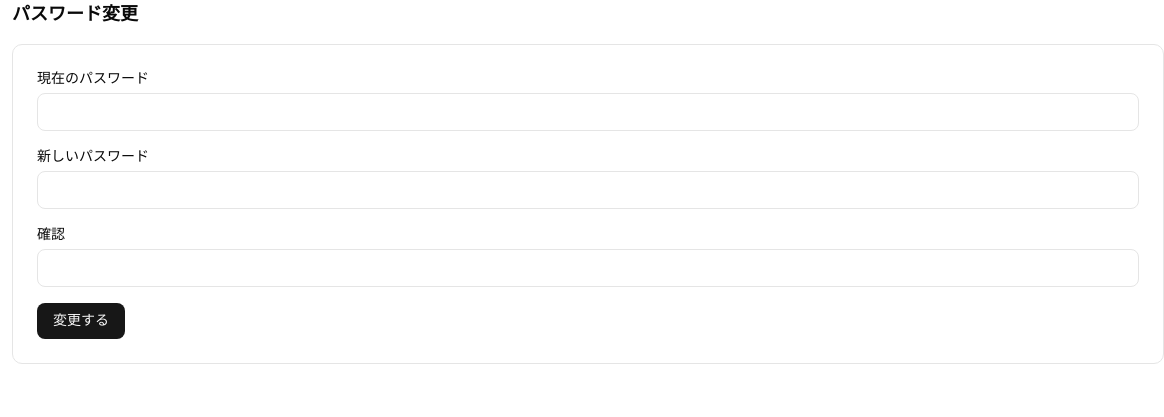
Test: PasswordChangeForm › 確認用パスワードが一致しない場合にエラーを表示する
Type "oldpass" into the password field labelled "現在のパスワード".
click(588, 112); type("oldpass")  # box [37, 93, 1139, 131]
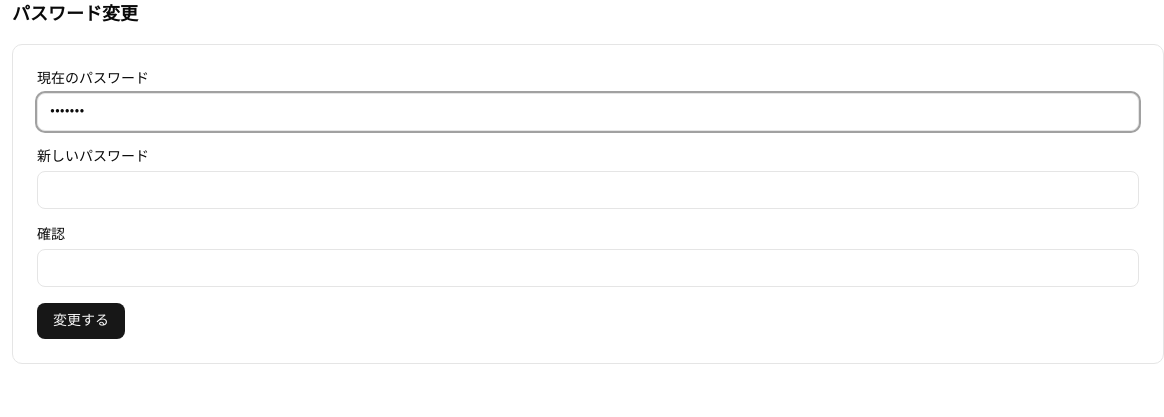
Type "newpassword1" into the password field labelled "新しいパスワード".
click(588, 190); type("newpassword1")  # box [37, 171, 1139, 209]
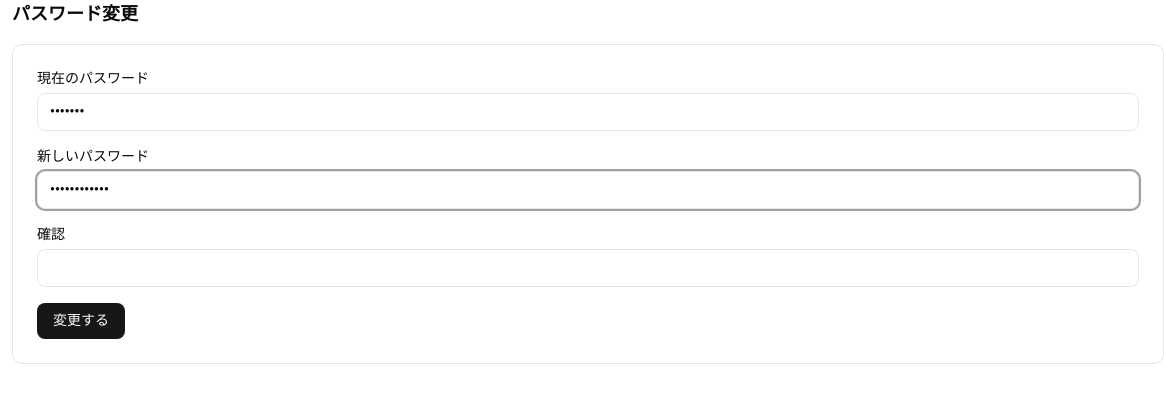
Type "newpassword2" into the password field labelled "確認".
click(588, 268); type("newpassword2")  # box [37, 249, 1139, 287]
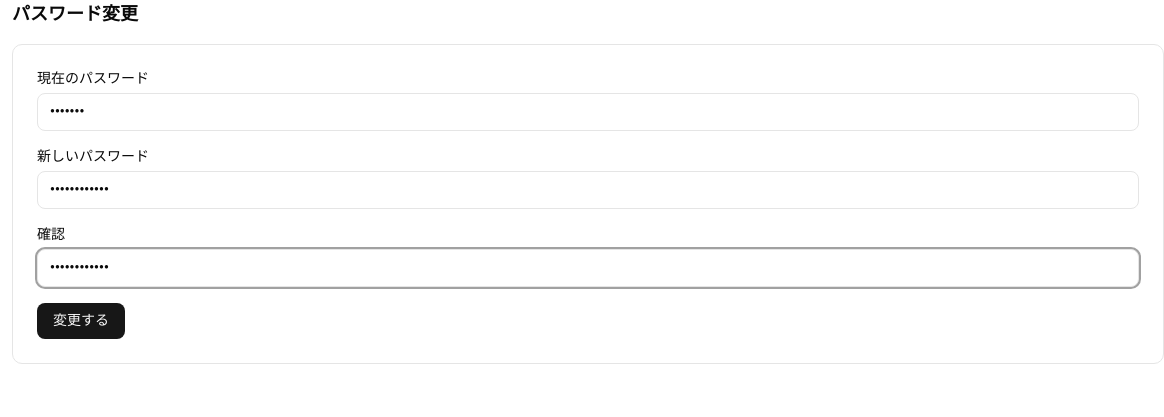
Click the button "変更する".
click(81, 321)  # box [37, 303, 125, 339]
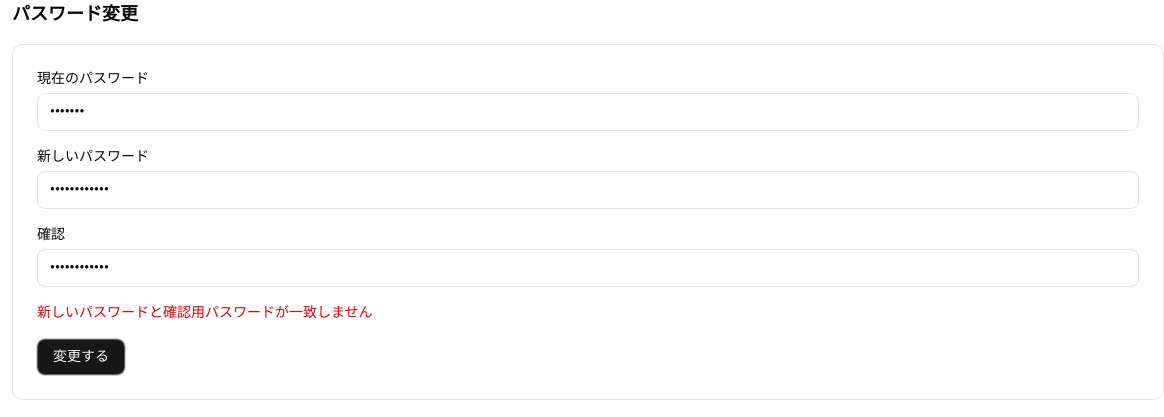
Check: the message reads "新しいパスワードと確認用パスワードが一致しません", box [37, 305, 373, 320]
